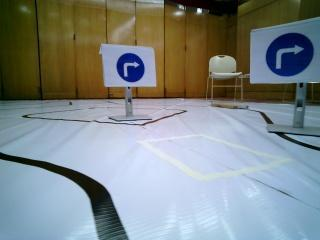right: (254, 32, 320, 80), (103, 45, 156, 88)
